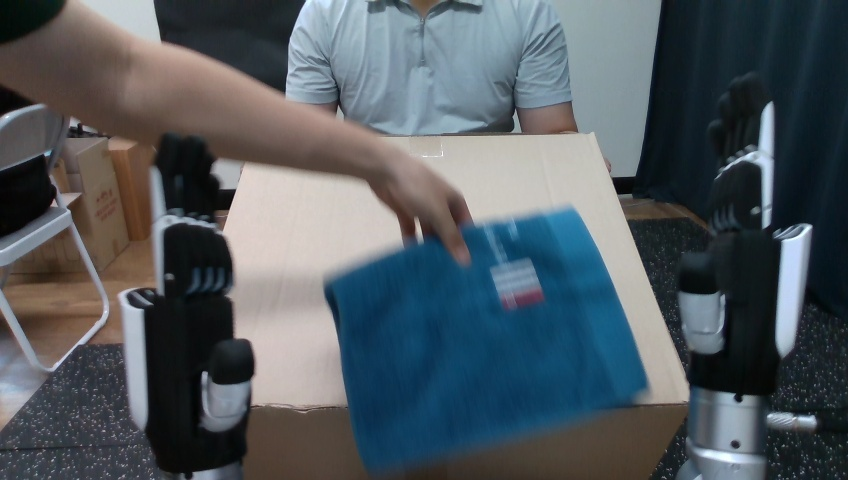left robot hand: (0, 1, 470, 263), (367, 146, 471, 265)
